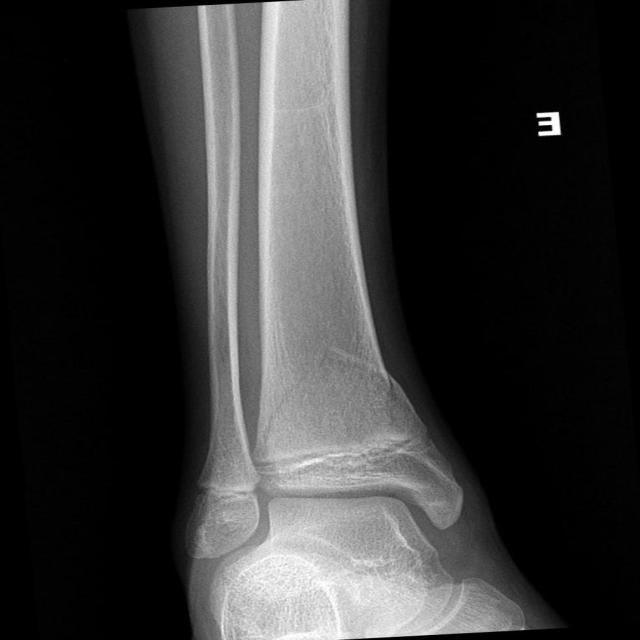Oblique Displaced: (243, 330, 408, 461)
